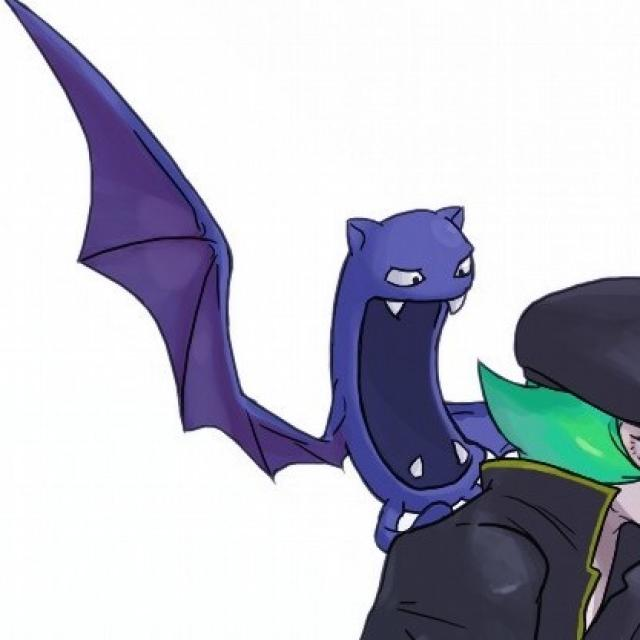Golbat: (176, 190, 514, 546)
